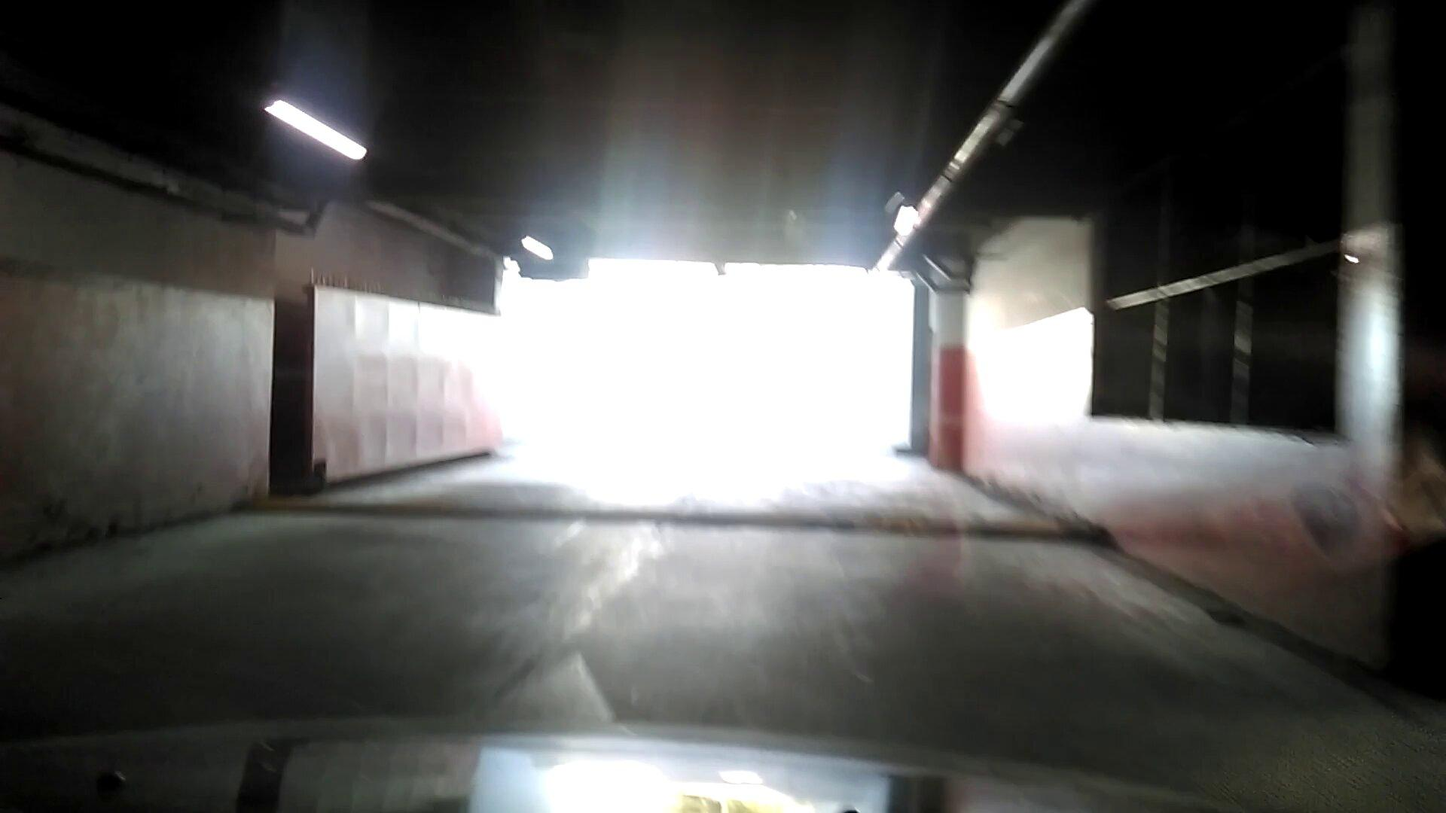Bump: (260, 486, 1117, 551)
